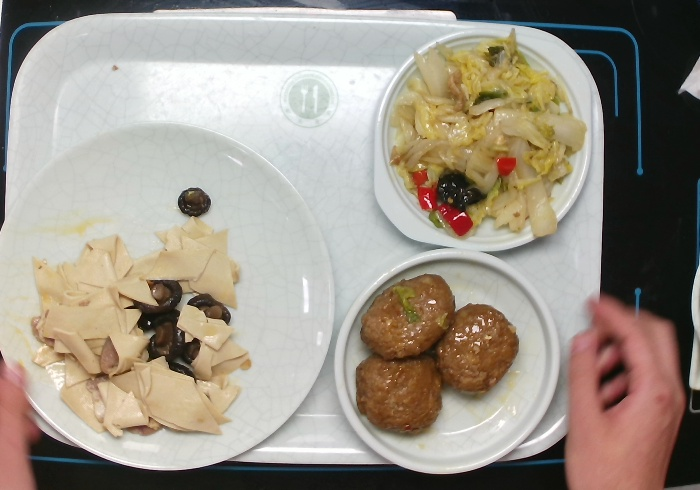JYsf-Da_Yuan_Pan: (1, 119, 334, 473)
JYsf-Shuang_Er_Pan: (366, 26, 595, 257)
JYsf-Xiao_Yuan_Pan: (332, 240, 560, 477)
